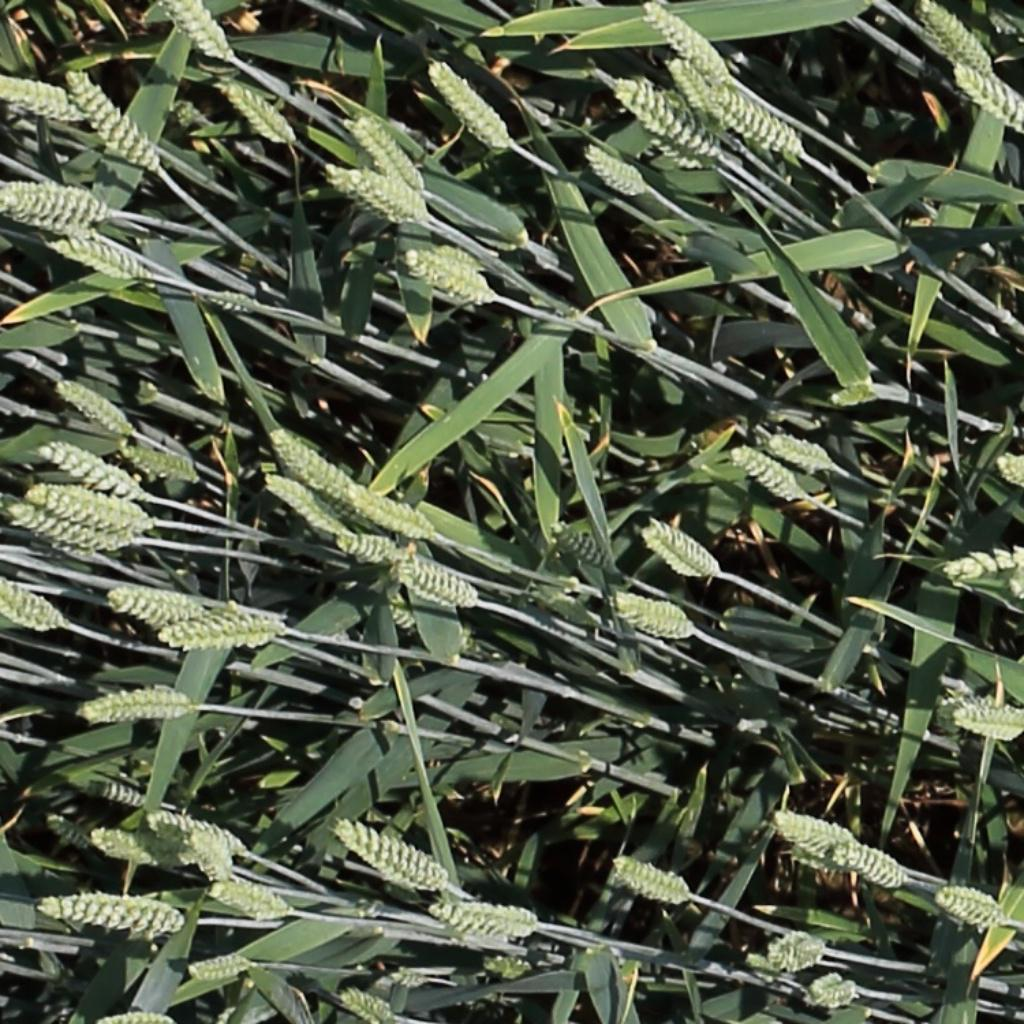0-0: (615, 70, 727, 178), (684, 62, 804, 154), (62, 64, 161, 172), (326, 806, 449, 891), (31, 886, 192, 941), (146, 602, 296, 660), (427, 58, 513, 152), (644, 0, 735, 84), (9, 502, 142, 557), (23, 482, 156, 535), (348, 110, 427, 191), (270, 428, 354, 503), (917, 0, 996, 79), (266, 473, 352, 545), (0, 75, 99, 136), (70, 682, 207, 726), (38, 439, 140, 498), (953, 60, 1024, 140), (769, 803, 866, 861), (390, 552, 483, 611), (222, 77, 296, 146), (805, 839, 909, 888), (346, 486, 436, 539), (405, 248, 494, 301), (166, 0, 234, 64), (0, 201, 103, 243), (335, 167, 427, 214), (641, 521, 719, 576), (57, 378, 132, 435), (146, 813, 248, 854), (55, 238, 152, 281), (427, 898, 535, 936), (0, 572, 60, 637), (945, 695, 1024, 744), (936, 879, 1011, 930), (611, 858, 692, 905), (731, 445, 801, 499), (667, 50, 720, 121), (88, 831, 185, 869), (0, 187, 109, 219), (118, 443, 200, 483), (614, 595, 694, 636), (109, 588, 202, 623), (941, 546, 1024, 584), (208, 883, 292, 920), (585, 144, 648, 192), (187, 831, 237, 888), (762, 927, 829, 969), (554, 521, 614, 567), (380, 581, 430, 634), (768, 434, 836, 469), (475, 954, 546, 986), (336, 528, 404, 561), (339, 988, 401, 1024), (45, 813, 92, 851), (188, 955, 255, 978), (825, 383, 877, 412), (991, 447, 1024, 491), (384, 967, 434, 995), (206, 289, 262, 312)
